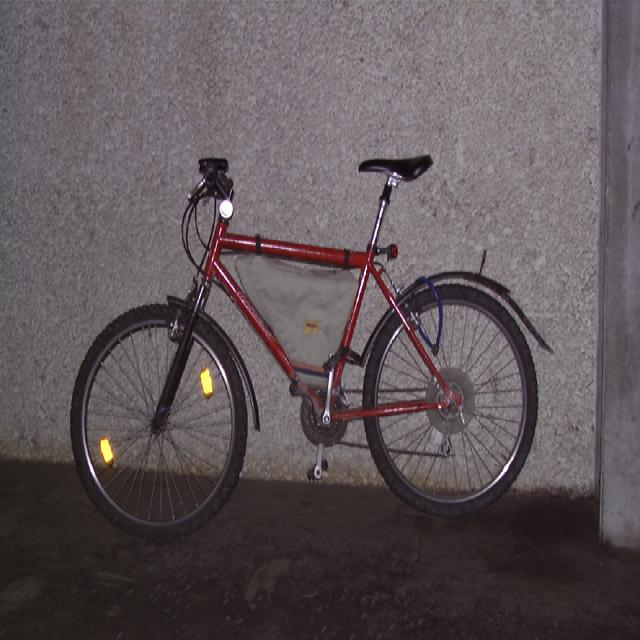bicycle: (68, 152, 553, 539)
